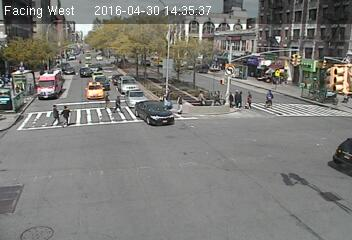neg: (299, 167, 331, 210), (137, 134, 165, 171), (224, 118, 251, 154), (15, 171, 37, 201), (70, 38, 92, 67), (264, 193, 286, 222), (203, 155, 223, 181), (27, 53, 46, 78), (303, 83, 322, 107), (77, 175, 93, 196), (110, 17, 125, 38), (269, 142, 284, 162), (330, 131, 342, 147), (306, 49, 316, 62), (186, 41, 195, 54), (276, 40, 285, 52), (46, 181, 54, 193), (242, 38, 250, 49), (284, 119, 292, 129)
pos: (53, 102, 74, 130), (258, 87, 279, 114), (43, 102, 63, 128), (155, 86, 173, 110), (170, 93, 187, 116), (206, 85, 222, 106), (100, 89, 116, 110), (232, 88, 247, 107), (243, 89, 257, 107), (111, 93, 125, 111), (223, 89, 236, 107), (196, 86, 208, 102)
